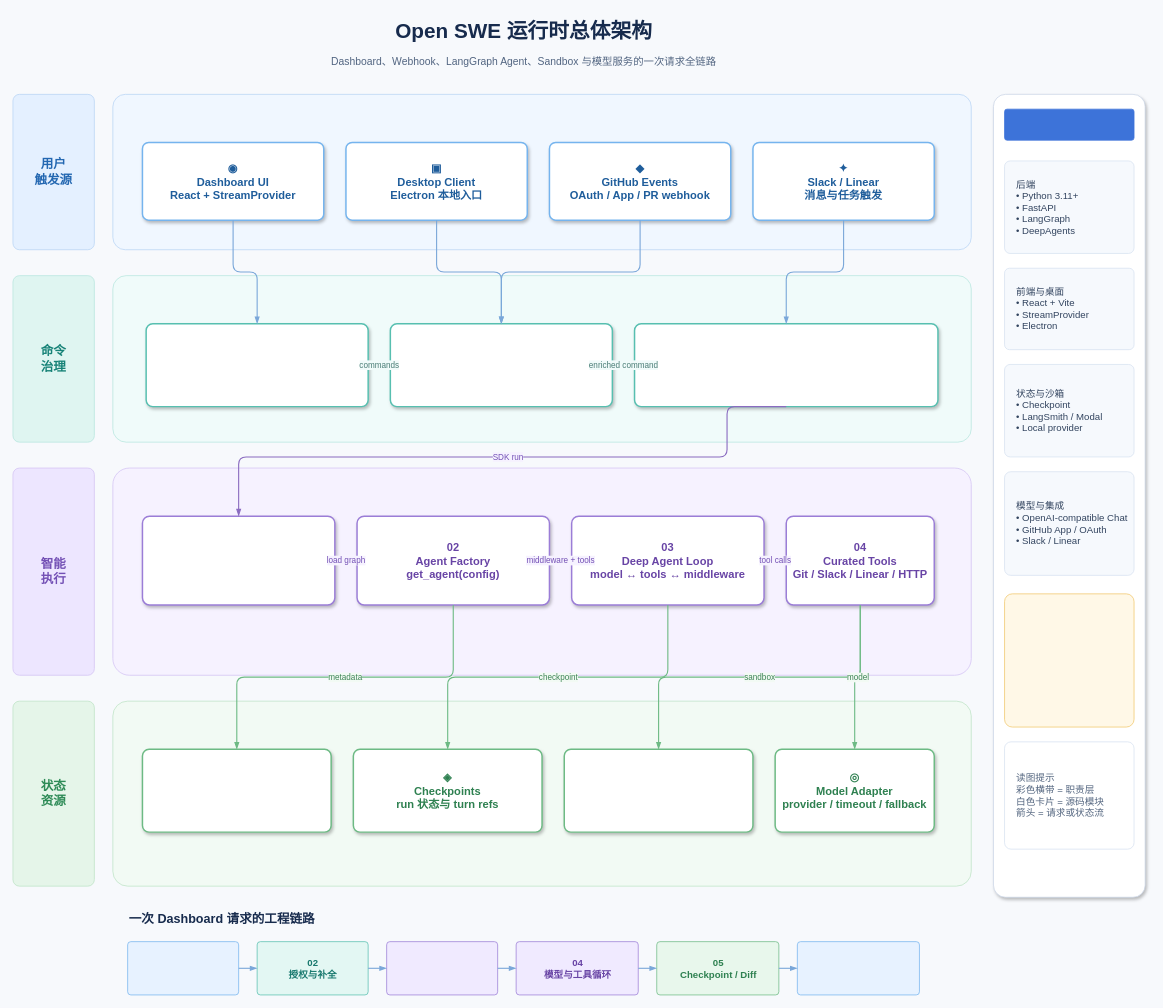
Image size: 1163x1008. Some labels were removed from this diagram. The centre of each missing label's shape, as x and y in pixels:
"01 LangGraph Runtime thread / run / event stream" belongs at (239,561).
"01 提交消息" belongs at (183,968).
"03 启动 Run" belongs at (442,968).
"06 SSE 回传 UI" belongs at (858,968).
"API FastAPI Webapp session / CORS / webhook verify" belongs at (257,366).
"TECH STACK" belongs at (1069,124).
"⇢ Command Proxy authorize → enrich → forward" belongs at (786,366).
"▤ Thread Metadata 用户、团队、模型与配置" belongs at (237,791).
"◎ OAuth / Webhook Router 鉴权、签名、thread_id" belongs at (501,366).
"⬡ Sandbox Lifecycle execute / git / diff / proxy" belongs at (659,791).
"边界原则 • UI 不直接持有 sandbox 凭证 • Proxy 负责授权与配置合并 • Agent 通过隔离 sandbox 操作仓库" belongs at (1069,660).
